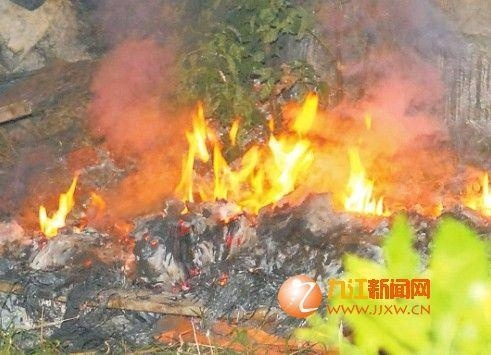fire: (168, 89, 407, 223), (35, 170, 85, 237)
